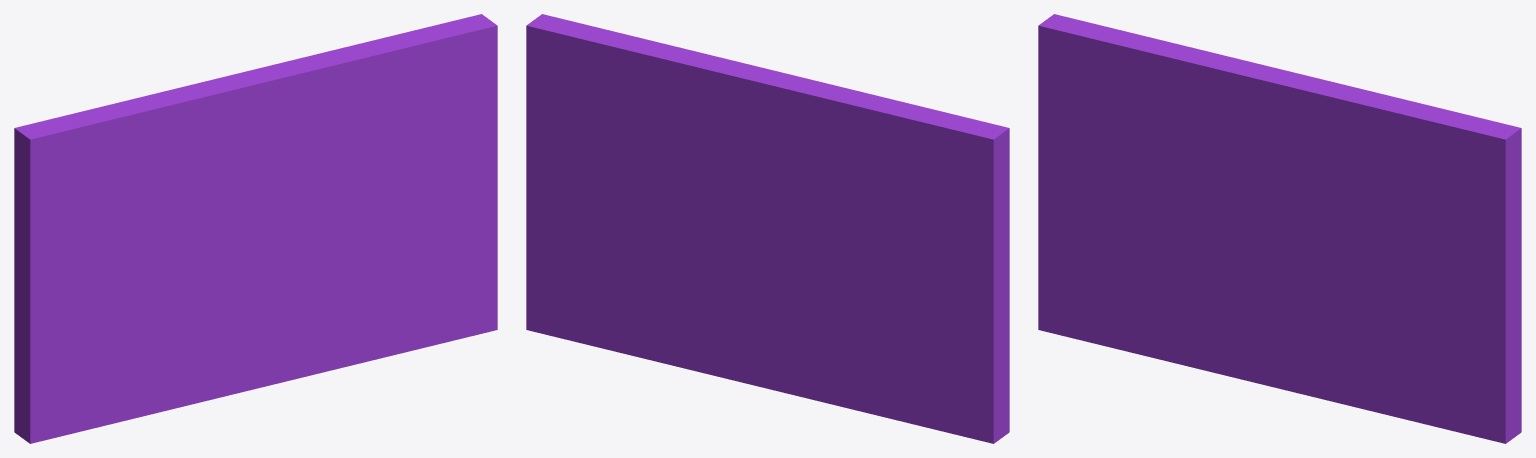
File: Barrier_126_chunks.fbx
The picture shows the model from 3 angles, left to right: view 1: azimuth 30°, elevation 25°; view 2: azimuth 150°, elevation 25°; view 3: azimuth 330°, elevation 25°; orthographic projection.
Visible parts, largest first — view 1: Barrier_126_1, Barrier_126_0, Barrier_126_3, Barrier_126_5, Barrier_126_4, Barrier_126_6; view 2: Barrier_126_1, Barrier_126_0, Barrier_126_3, Barrier_126_2, Barrier_126_4, Barrier_126_5; view 3: Barrier_126_1, Barrier_126_0, Barrier_126_3, Barrier_126_5, Barrier_126_4, Barrier_126_6.
Boxes of the visible parts, <box> form: Barrier_126_1: <box>14,105,259,443</box>; Barrier_126_0: <box>216,109,497,398</box>; Barrier_126_3: <box>109,40,386,157</box>; Barrier_126_5: <box>158,126,379,238</box>; Barrier_126_4: <box>370,14,497,173</box>; Barrier_126_6: <box>331,41,431,156</box>; Barrier_126_1: <box>763,108,1009,443</box>; Barrier_126_0: <box>526,128,801,396</box>; Barrier_126_3: <box>633,43,929,159</box>; Barrier_126_2: <box>526,68,781,255</box>; Barrier_126_4: <box>526,14,679,147</box>; Barrier_126_5: <box>670,129,844,209</box>; Barrier_126_1: <box>1038,14,1267,374</box>; Barrier_126_0: <box>1224,216,1521,443</box>; Barrier_126_3: <box>1118,37,1414,158</box>; Barrier_126_5: <box>1166,106,1387,236</box>; Barrier_126_4: <box>1379,102,1521,230</box>; Barrier_126_6: <box>1339,109,1439,208</box>.
Bounding box in the file's own units: 462 × 288 × 27.2.
